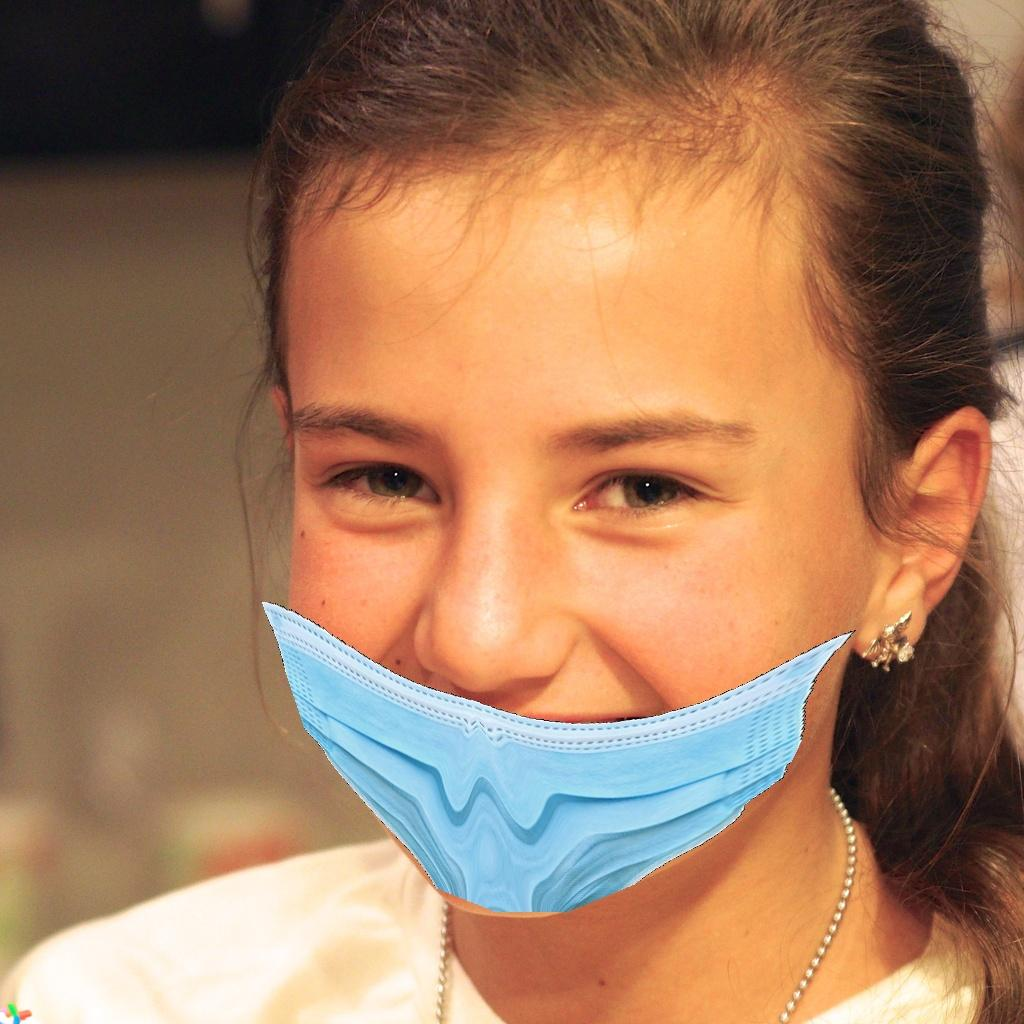Máscara Incorreta: (286, 278, 838, 909)
